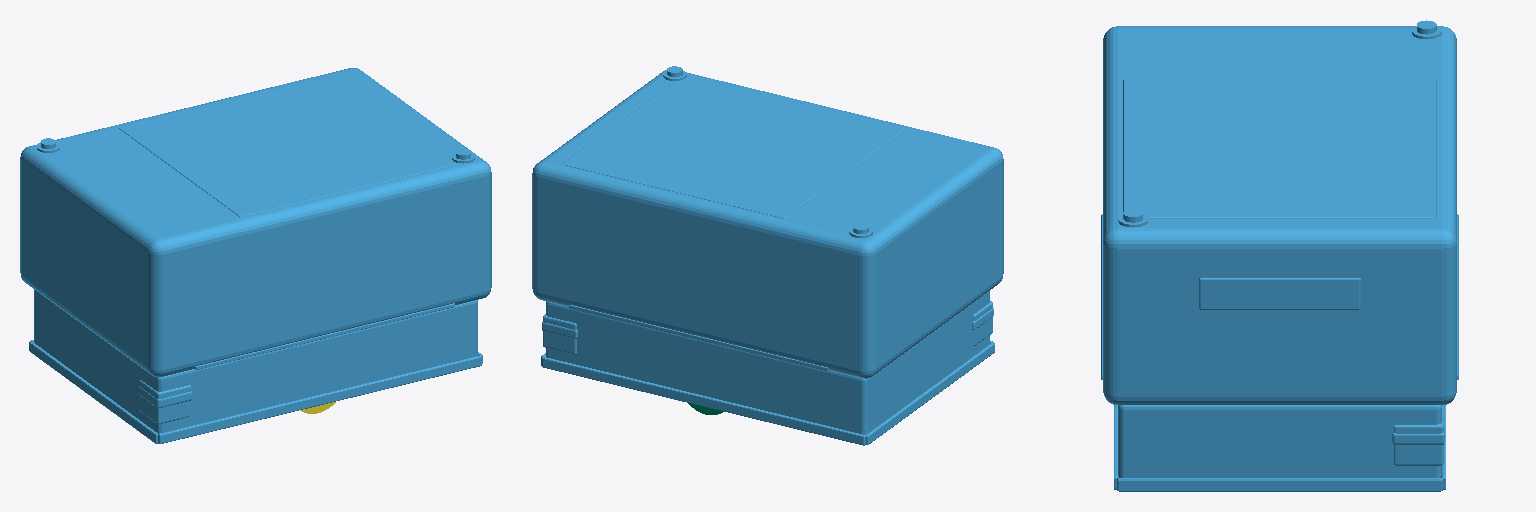
robot.urdf — aubo_amr300_reference:
<?xml version="1.0"?>
<robot name="aubo_amr300_reference">
<link name="base_footprint"></link>
<link name="base_link"><visual ><geometry ><mesh filename="../meshes/base_link.obj"/></geometry></visual><collision ><origin xyz="0 0 0.12" rpy="0 0 0"/><geometry ><box size="0.94 0.64 0.19"/></geometry></collision><collision ><origin xyz="0 0 0.4075" rpy="0 0 0"/><geometry ><box size="1 0.7 0.385"/></geometry></collision></link>
<link name="left_wheel_link"><visual ><geometry ><mesh filename="../meshes/left_wheel_link.obj"/></geometry></visual></link>
<link name="right_wheel_link"><visual ><geometry ><mesh filename="../meshes/right_wheel_link.obj"/></geometry></visual></link>
<link name="fl_caster_wheel_link"><visual ><geometry ><mesh filename="../meshes/fl_caster_wheel_link.obj"/></geometry></visual></link>
<link name="fr_caster_wheel_link"><visual ><geometry ><mesh filename="../meshes/fr_caster_wheel_link.obj"/></geometry></visual></link>
<link name="bl_caster_wheel_link"><visual ><geometry ><mesh filename="../meshes/bl_caster_wheel_link.obj"/></geometry></visual></link>
<link name="br_caster_wheel_link"><visual ><geometry ><mesh filename="../meshes/br_caster_wheel_link.obj"/></geometry></visual></link>
<link name="deck"></link>
<link name="load_surface"></link>
<link name="arm_mount"></link>
<joint name="base_link_joint" type="fixed"><parent link="base_footprint"/><child link="base_link"/><origin xyz="0 0 0" rpy="0 0 0"/></joint>
<joint name="left_wheel_link_joint" type="continuous"><parent link="base_link"/><child link="left_wheel_link"/><origin xyz="0 0.29 0.08" rpy="0 0 0"/><axis xyz="0 1 0"/><limit effort="100" velocity="12"/></joint>
<joint name="right_wheel_link_joint" type="continuous"><parent link="base_link"/><child link="right_wheel_link"/><origin xyz="0 -0.29 0.08" rpy="0 0 0"/><axis xyz="0 1 0"/><limit effort="100" velocity="12"/></joint>
<joint name="fl_caster_wheel_link_joint" type="continuous"><parent link="base_link"/><child link="fl_caster_wheel_link"/><origin xyz="0.38 0.25 0.05" rpy="0 0 0"/><axis xyz="0 1 0"/><limit effort="100" velocity="12"/></joint>
<joint name="fr_caster_wheel_link_joint" type="continuous"><parent link="base_link"/><child link="fr_caster_wheel_link"/><origin xyz="0.38 -0.25 0.05" rpy="0 0 0"/><axis xyz="0 1 0"/><limit effort="100" velocity="12"/></joint>
<joint name="bl_caster_wheel_link_joint" type="continuous"><parent link="base_link"/><child link="bl_caster_wheel_link"/><origin xyz="-0.38 0.25 0.05" rpy="0 0 0"/><axis xyz="0 1 0"/><limit effort="100" velocity="12"/></joint>
<joint name="br_caster_wheel_link_joint" type="continuous"><parent link="base_link"/><child link="br_caster_wheel_link"/><origin xyz="-0.38 -0.25 0.05" rpy="0 0 0"/><axis xyz="0 1 0"/><limit effort="100" velocity="12"/></joint>
<joint name="deck_joint" type="fixed"><parent link="base_link"/><child link="deck"/><origin xyz="0 0 0.6" rpy="0 0 0"/></joint>
<joint name="load_surface_joint" type="fixed"><parent link="base_link"/><child link="load_surface"/><origin xyz="0.1 0 0.6" rpy="0 0 0"/></joint>
<joint name="arm_mount_joint" type="fixed"><parent link="base_link"/><child link="arm_mount"/><origin xyz="0.18 0 0.6" rpy="0 0 0"/></joint>
</robot>

--- What the picture shows (computed from the rendered views, not written in the file) ---
Views: 3 orthographic renders of the robot side by side, from view 1: azimuth 30°, elevation 25°; view 2: azimuth 150°, elevation 25°; view 3: azimuth 270°, elevation 25°.
Model aubo_amr300_reference with 11 links and 10 joints (6 continuous, 4 fixed), rooted at base_footprint, posed every joint at zero.
Links seen in each view (by area): view 1: base_link; view 2: base_link; view 3: base_link.
Link boxes in pixels (x1,y1,x2,y2): base_link: [20, 68, 491, 443]; base_link: [532, 66, 1003, 445]; base_link: [1101, 20, 1458, 491].
Bounding box of the posed robot: 1 × 0.706 × 0.618 m (x, y, z).
7 mesh visuals loaded from 7 distinct referenced files (7 OBJ).
